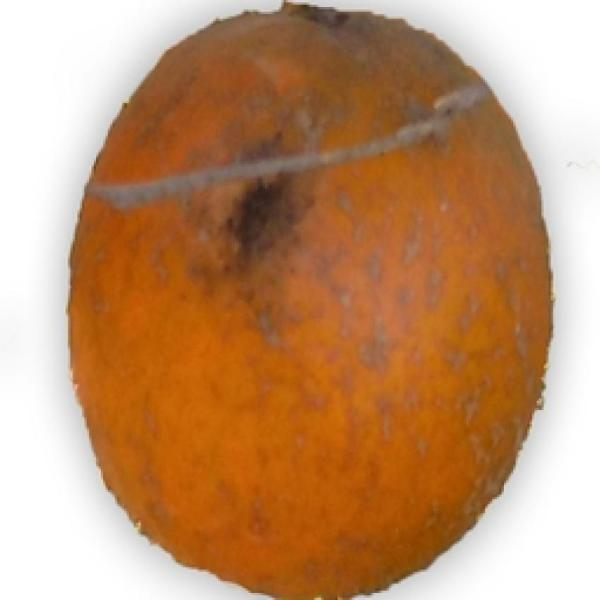Canker: (29, 0, 565, 597)
